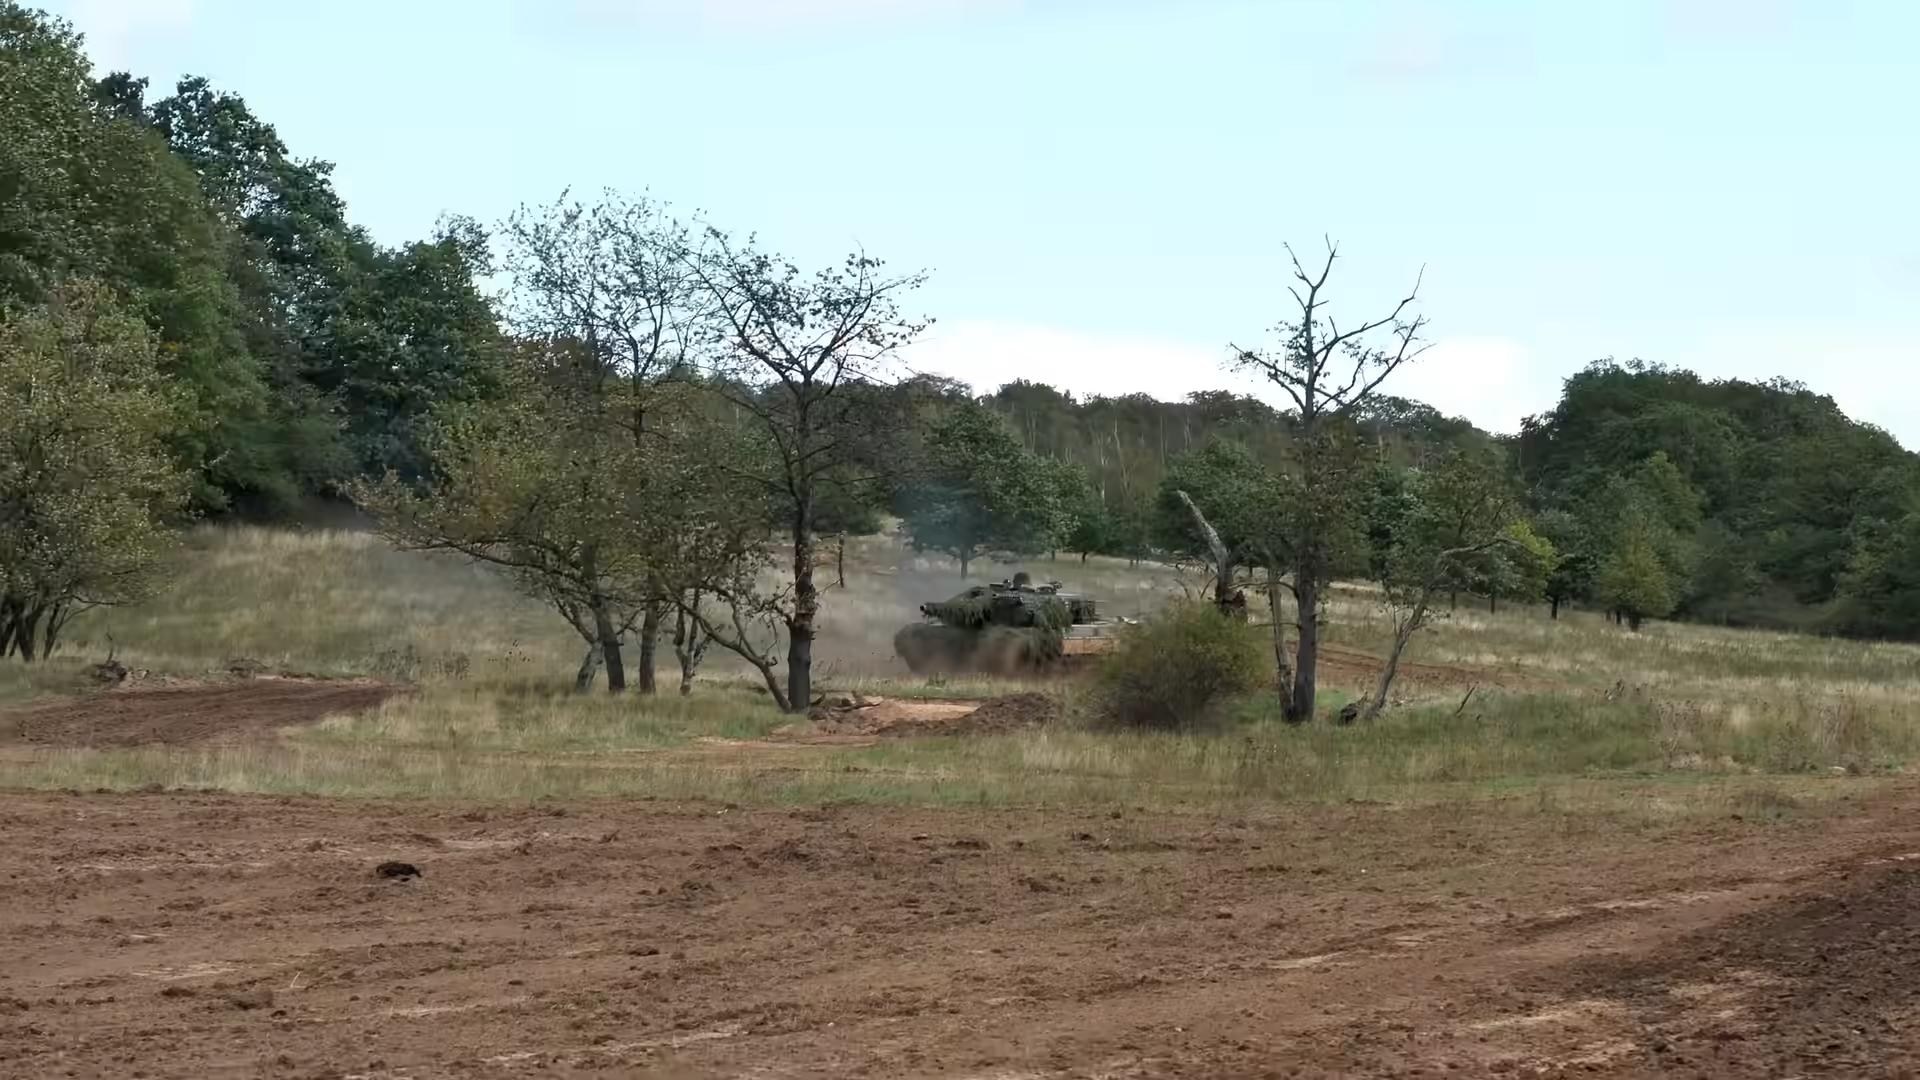tank: (895, 574, 1129, 673)
